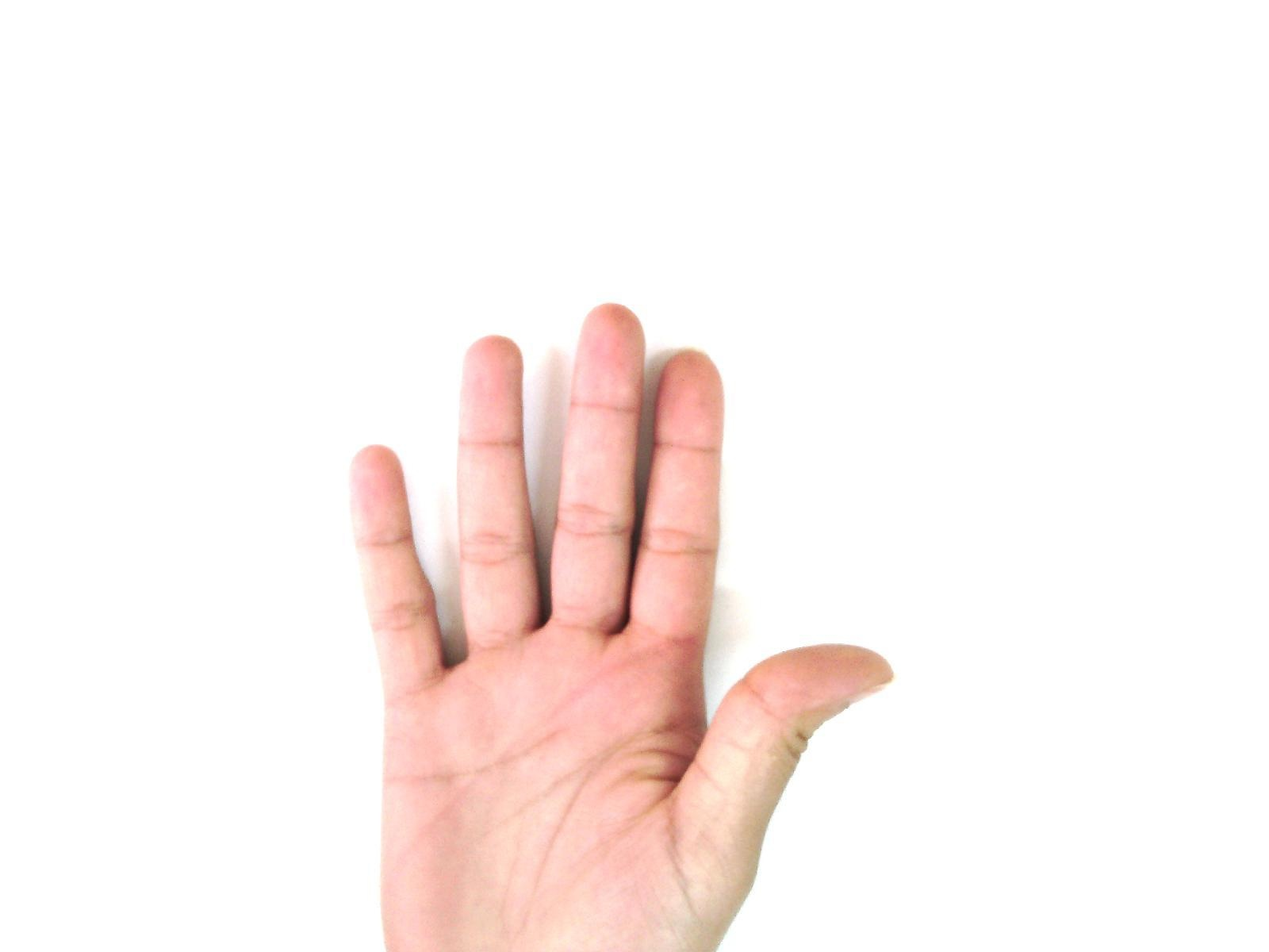open_palm: (345, 301, 896, 951)
